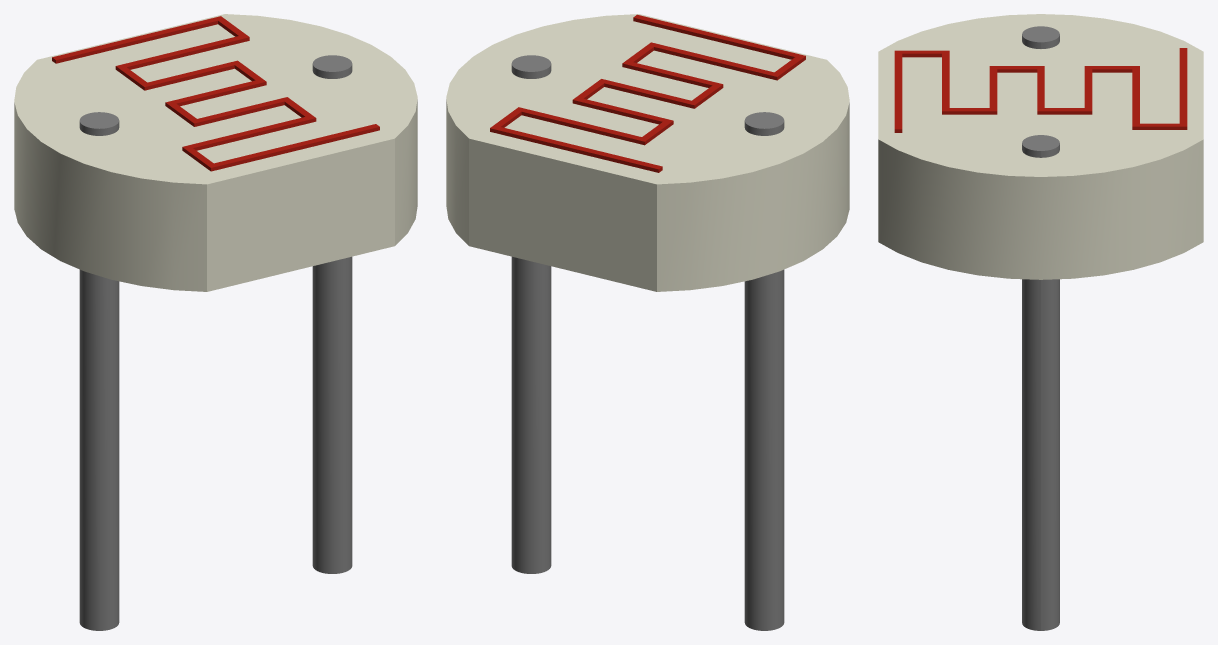
The model's file is photoresistor.glb.
3 renders of one model, left to right at view 1: azimuth 30°, elevation 25°; view 2: azimuth 150°, elevation 25°; view 3: azimuth 270°, elevation 25°, orthographic. The views are drawn at different scales.
Parts seen in each view (by area): view 1: photoresistor; view 2: photoresistor; view 3: photoresistor.
Boxes of the visible parts, x1,y1,x2,y2 form: photoresistor: (14,14,417,630); photoresistor: (446,14,849,630); photoresistor: (878,14,1203,630).
Size of the model in its own units: 5.1 by 7 by 4.3.
